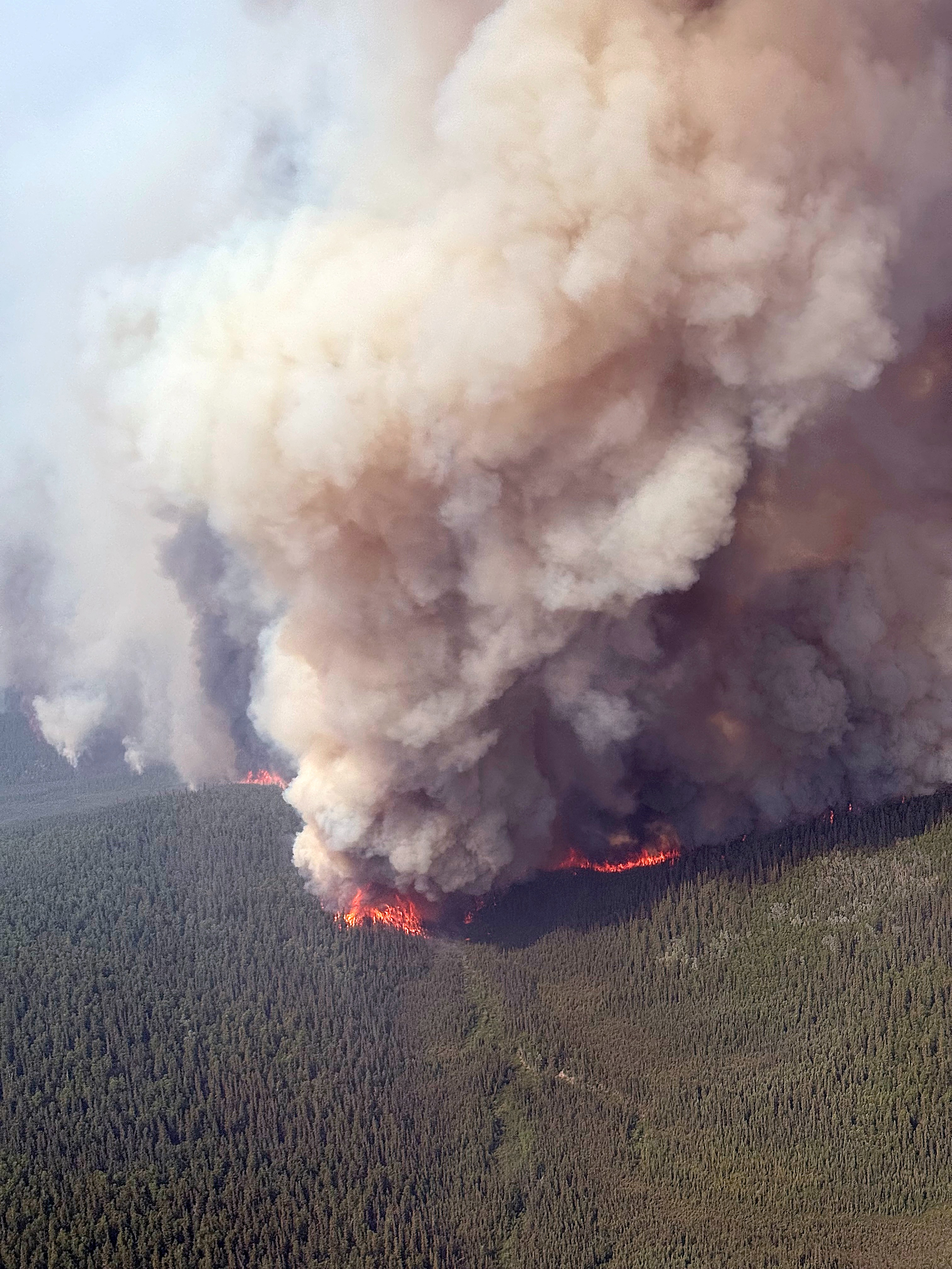forest_fire: (551, 831, 680, 873), (549, 832, 680, 873), (336, 888, 440, 938), (338, 889, 428, 937), (237, 769, 288, 789), (463, 897, 485, 924), (442, 913, 445, 916)
